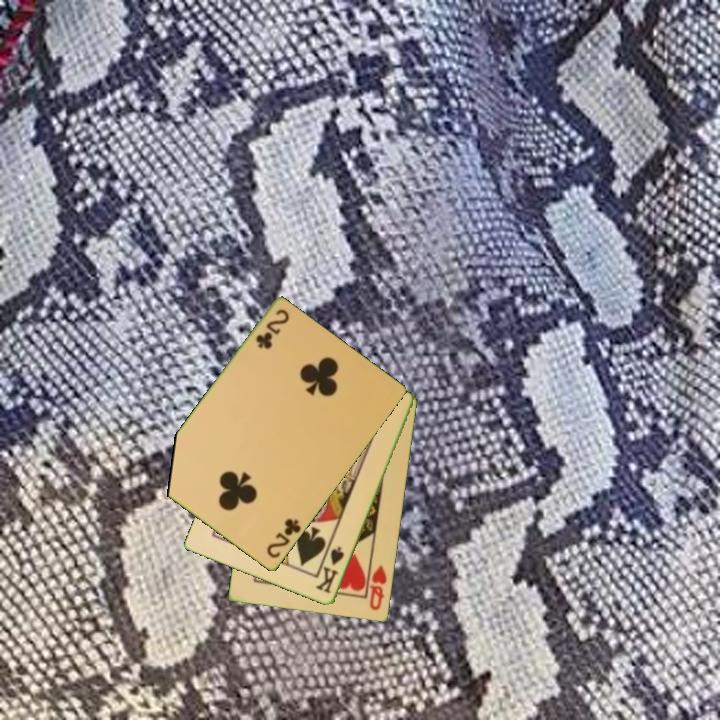2c: (263, 515, 304, 562), (252, 306, 292, 352)
Ks: (312, 543, 347, 597)
Qh: (366, 561, 390, 613)
